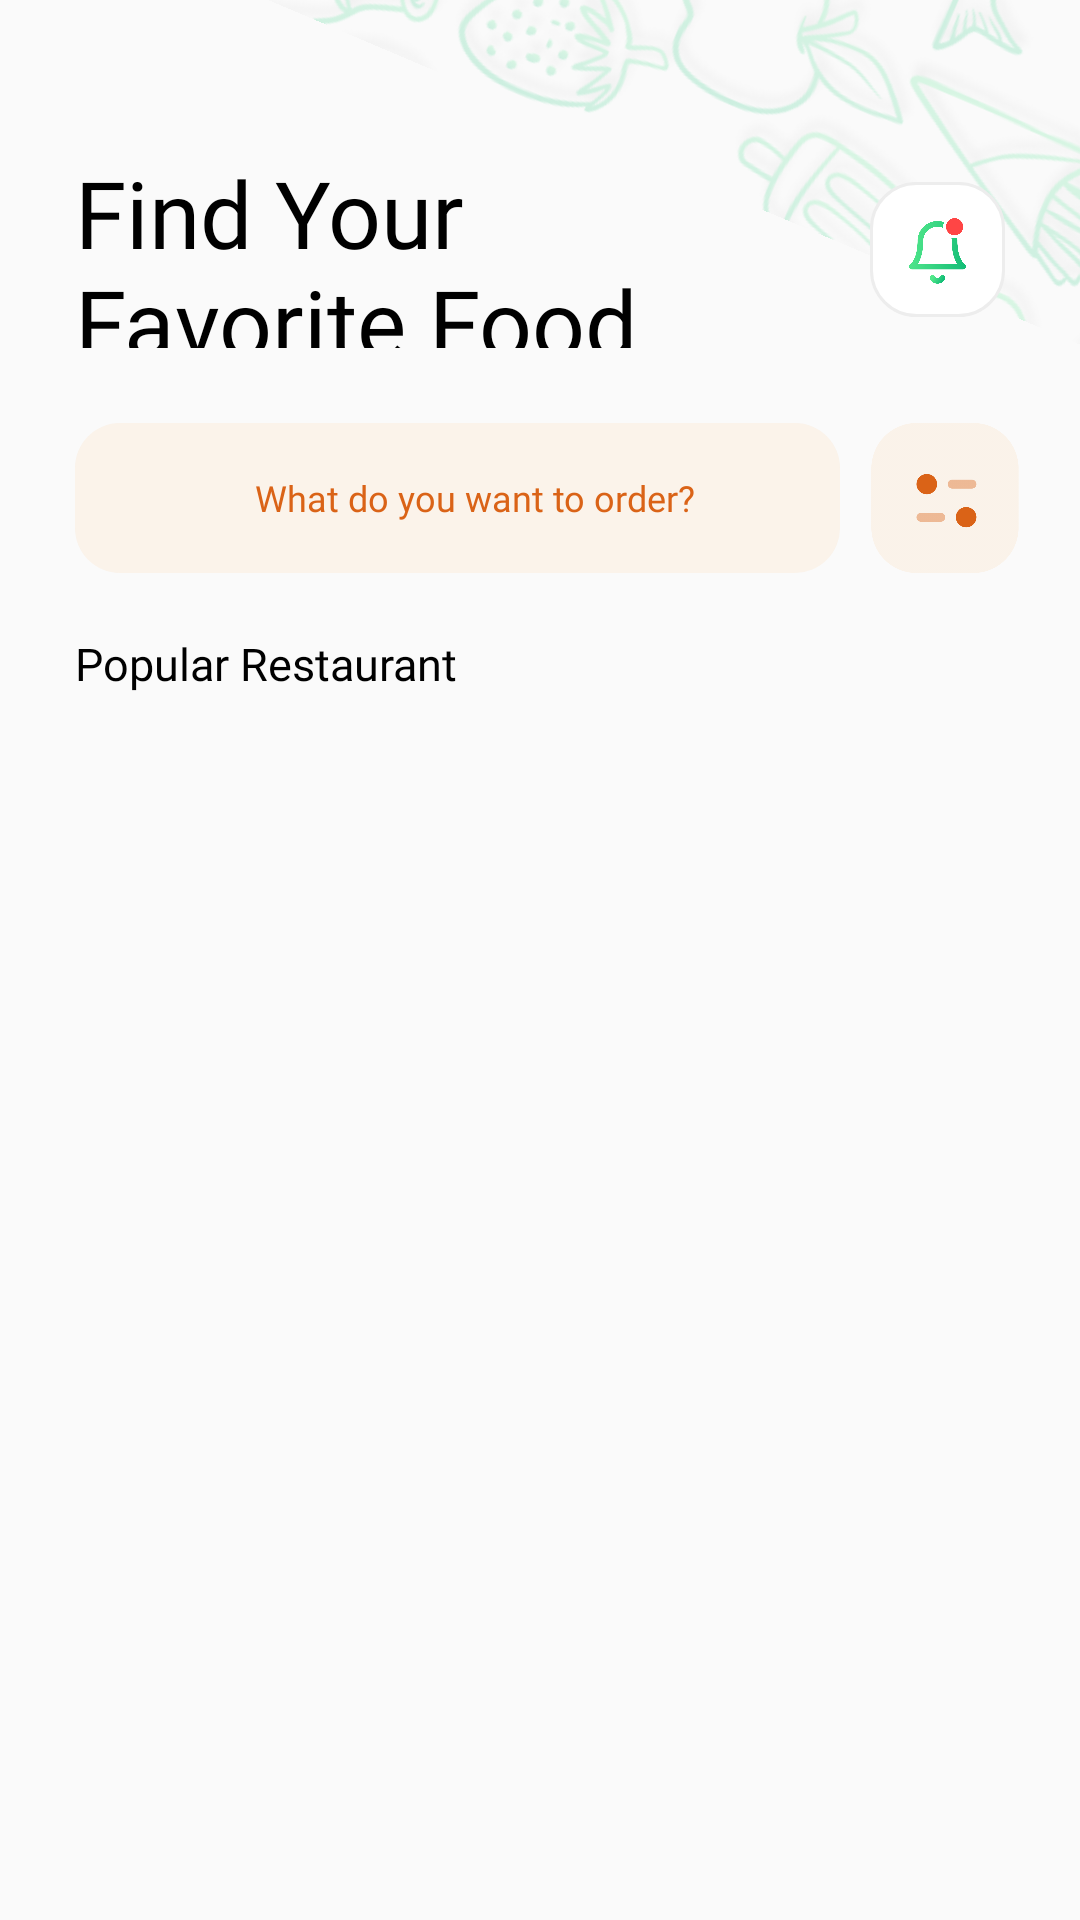

Icons on this 1080x1920 Android screen, each with the point to tap as point (x, y):
filter: point (945, 498)
notification: point (937, 251)
